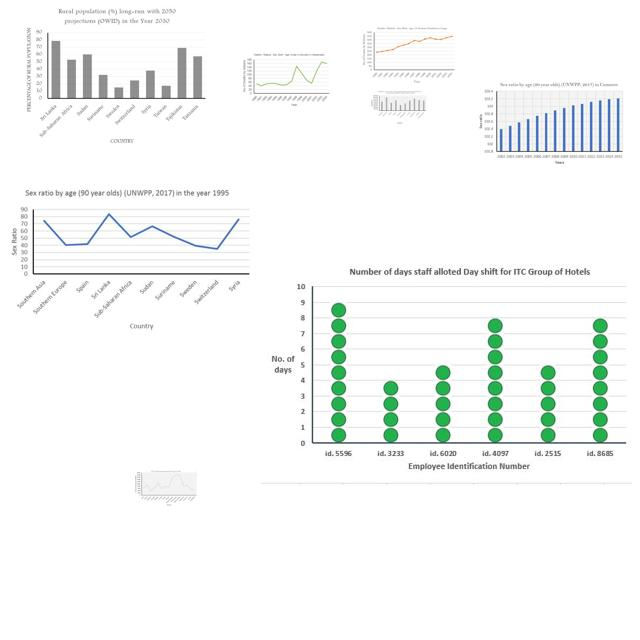Graph: (261, 258, 632, 485), (3, 185, 253, 334), (23, 7, 208, 146), (475, 79, 626, 168), (361, 25, 456, 84), (241, 52, 331, 108), (135, 470, 197, 506), (370, 90, 427, 124)
